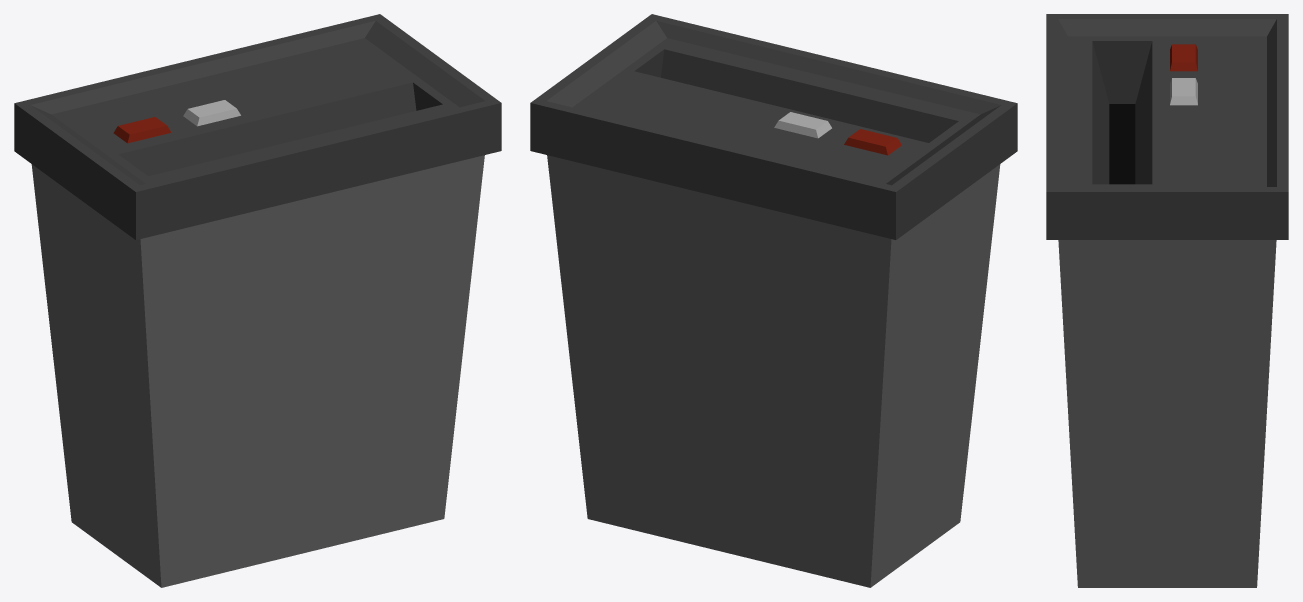
File: PaperShredderV1.fbx
3 renders of one model, left to right at view 1: azimuth 30°, elevation 25°; view 2: azimuth 150°, elevation 25°; view 3: azimuth 270°, elevation 25°, orthographic.
Visible parts, largest first — view 1: PaperShredderV1; view 2: PaperShredderV1; view 3: PaperShredderV1.
Part boxes in pixels (x1=…): PaperShredderV1: x1=14, y1=14, x2=501, y2=587; PaperShredderV1: x1=530, y1=14, x2=1017, y2=587; PaperShredderV1: x1=1046, y1=14, x2=1288, y2=587.
Bounding box in the file's own units: 35.12 × 38.3 × 20.2.
